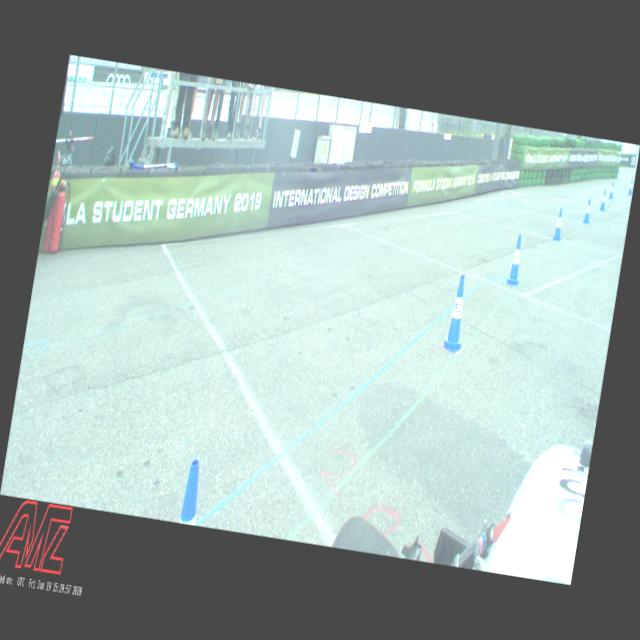blue_cone: (440, 273, 474, 354), (505, 234, 526, 287), (552, 208, 566, 240), (582, 198, 593, 224), (600, 189, 608, 211), (608, 182, 616, 200), (628, 179, 634, 195)
